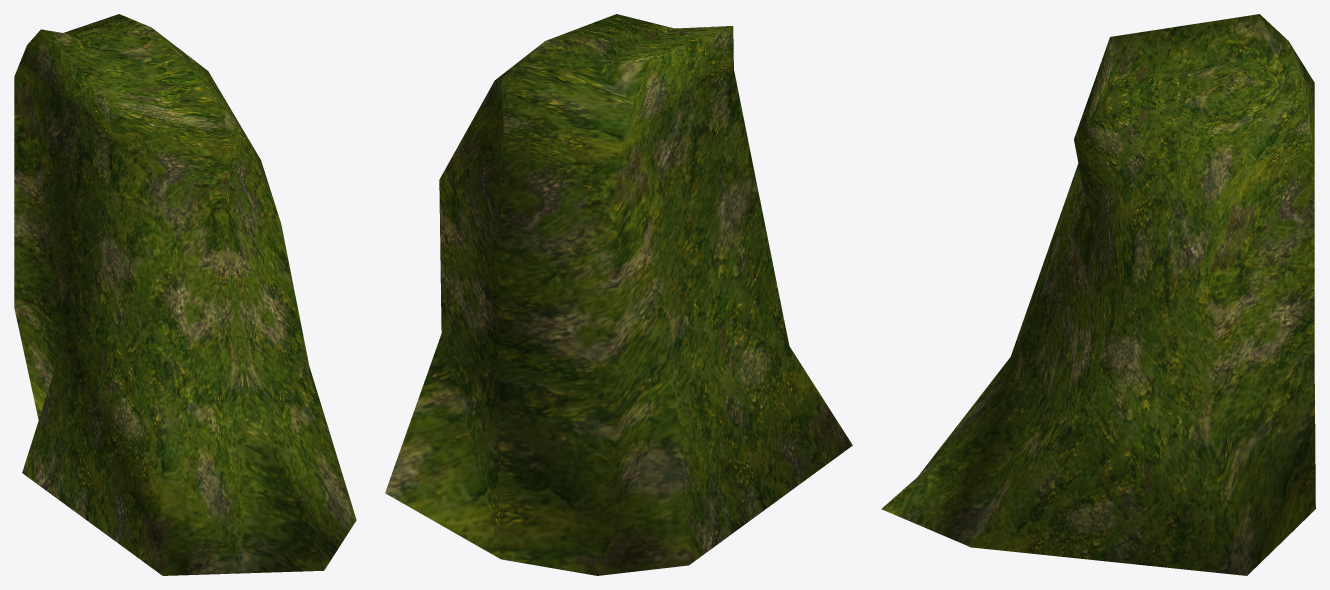
The model's file is INST_OH_ROCK_04.fbx.
3 views of the same model, side by side, from view 1: azimuth 30°, elevation 25°; view 2: azimuth 150°, elevation 25°; view 3: azimuth 270°, elevation 25° (orthographic). The views are drawn at different scales.
Visible parts, largest first — view 1: INST_OH_ROCK_04; view 2: INST_OH_ROCK_04; view 3: INST_OH_ROCK_04.
Part boxes in pixels (x1,y1,x2,y2): INST_OH_ROCK_04: (14, 14, 356, 575); INST_OH_ROCK_04: (385, 14, 852, 575); INST_OH_ROCK_04: (881, 14, 1315, 575).
Bounding box in the file's own units: 9947 × 15822 × 14009.
1 material, 1 textured.
